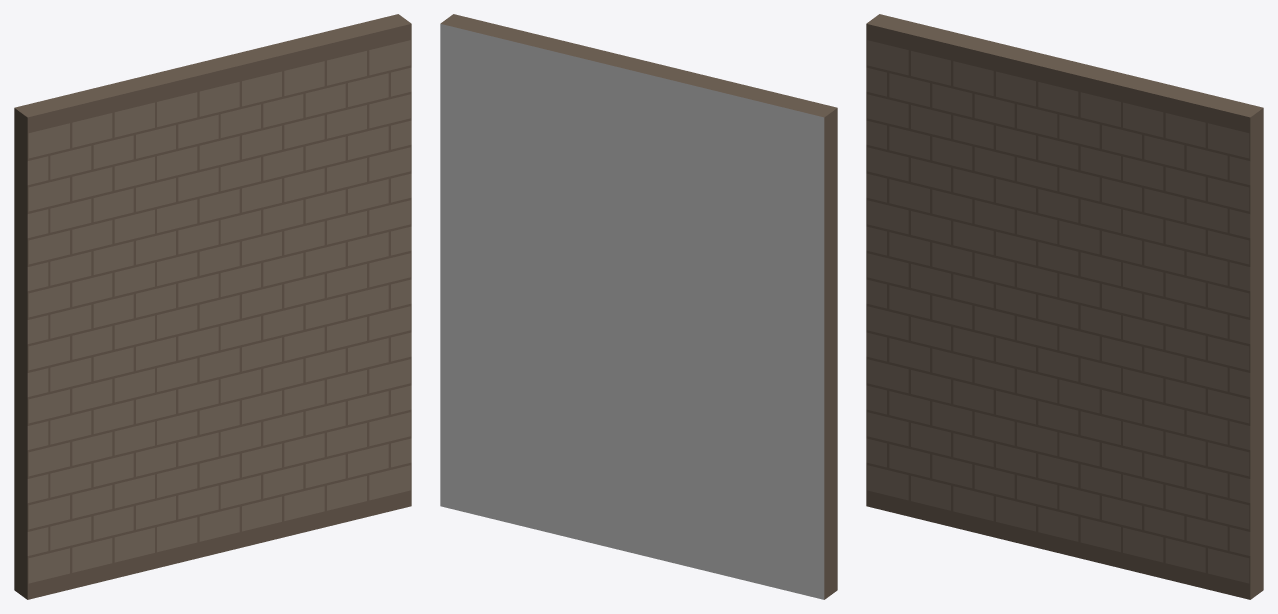
The model's file is Wall1_C10_01.fbx.
3 renders of one model, left to right at view 1: azimuth 30°, elevation 25°; view 2: azimuth 150°, elevation 25°; view 3: azimuth 330°, elevation 25°, orthographic.
Parts seen in each view (by area): view 1: Wall1_C10_01; view 2: Wall1_C10_01; view 3: Wall1_C10_01.
Boxes of the visible parts, bbox=[...] form: Wall1_C10_01: bbox=[14, 14, 411, 599]; Wall1_C10_01: bbox=[440, 14, 837, 599]; Wall1_C10_01: bbox=[866, 14, 1263, 599].
Bounding box in the file's own units: 250 × 300 × 15.
